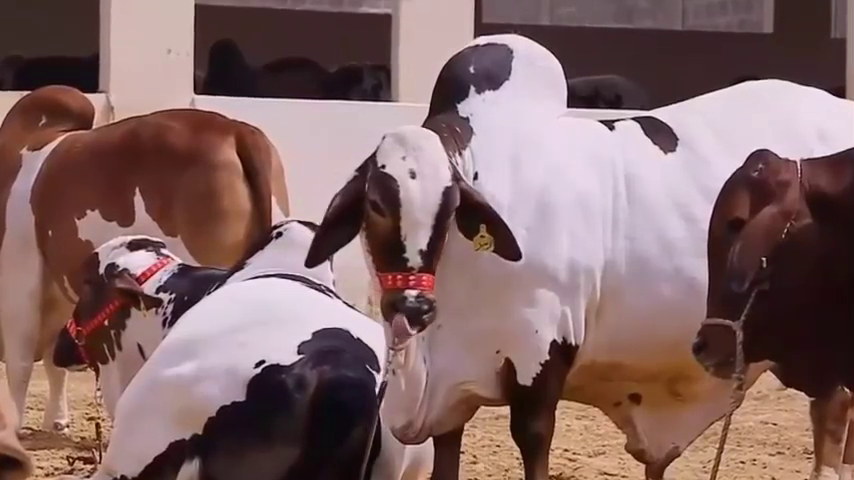bo: (299, 32, 853, 479), (32, 208, 442, 479), (1, 79, 297, 445), (699, 116, 853, 479)
